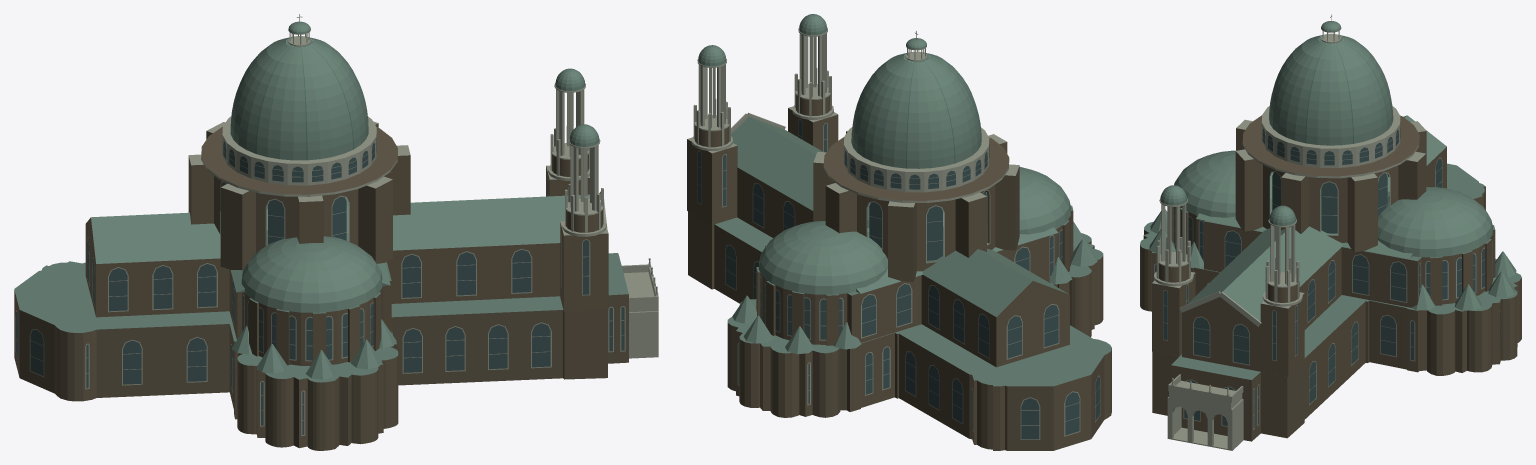
Rendered from koekelberg-basilica-far.glb.
The picture shows the model from 3 angles, left to right: view 1: azimuth 30°, elevation 25°; view 2: azimuth 150°, elevation 25°; view 3: azimuth 270°, elevation 25°; orthographic projection. The views are drawn at different scales.
Visible parts, largest first — view 1: koekelberg-basilica-0-brick, koekelberg-basilica-0-copper, koekelberg-basilica-0-stone, koekelberg-basilica-0-glass; view 2: koekelberg-basilica-0-brick, koekelberg-basilica-0-copper, koekelberg-basilica-0-stone, koekelberg-basilica-0-glass, koekelberg-basilica-0-seam; view 3: koekelberg-basilica-0-brick, koekelberg-basilica-0-copper, koekelberg-basilica-0-stone, koekelberg-basilica-0-glass, koekelberg-basilica-0-seam.
Part boxes in pixels (x1,y1,x2,y2): koekelberg-basilica-0-brick: (14, 123, 628, 450); koekelberg-basilica-0-copper: (14, 21, 628, 382); koekelberg-basilica-0-stone: (15, 14, 658, 436); koekelberg-basilica-0-glass: (16, 138, 624, 434); koekelberg-basilica-0-brick: (687, 95, 1111, 450); koekelberg-basilica-0-copper: (698, 14, 1111, 386); koekelberg-basilica-0-stone: (687, 27, 1100, 439); koekelberg-basilica-0-glass: (697, 120, 1100, 439); koekelberg-basilica-0-seam: (861, 58, 980, 168); koekelberg-basilica-0-brick: (1140, 115, 1521, 441); koekelberg-basilica-0-copper: (1140, 21, 1521, 379); koekelberg-basilica-0-stone: (1152, 14, 1500, 450); koekelberg-basilica-0-glass: (1155, 128, 1500, 428); koekelberg-basilica-0-seam: (1273, 42, 1388, 143).
Size of the model in its own units: 145 by 89.9 by 101.
